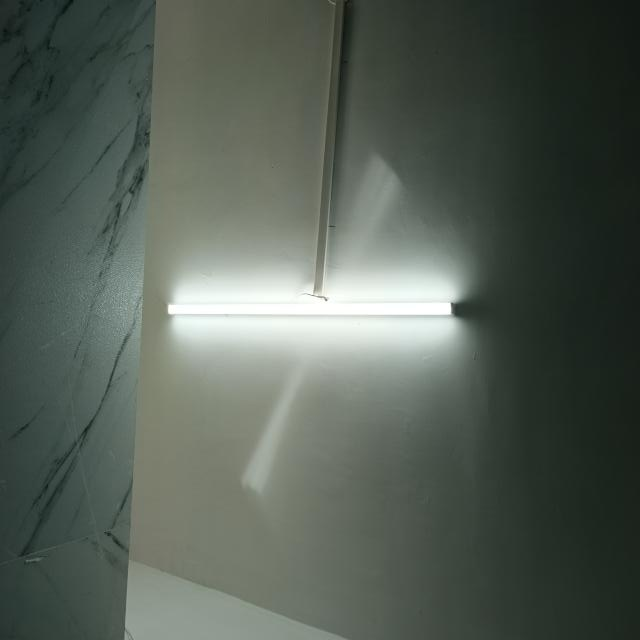fluorescent tube: (159, 269, 472, 337)
